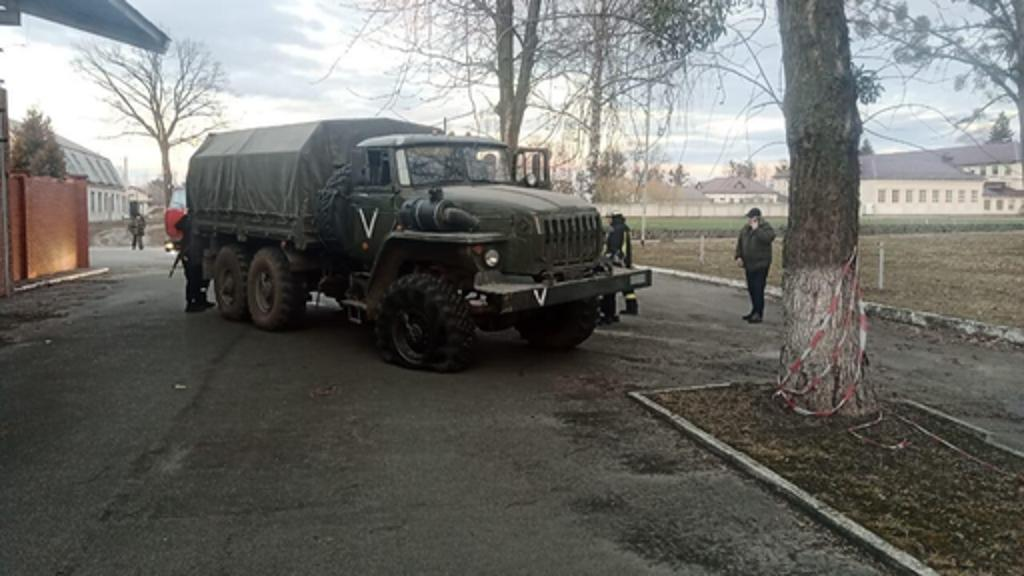TRUCK: (172, 116, 660, 376)
